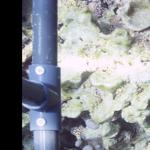dead: (58, 1, 148, 148)
